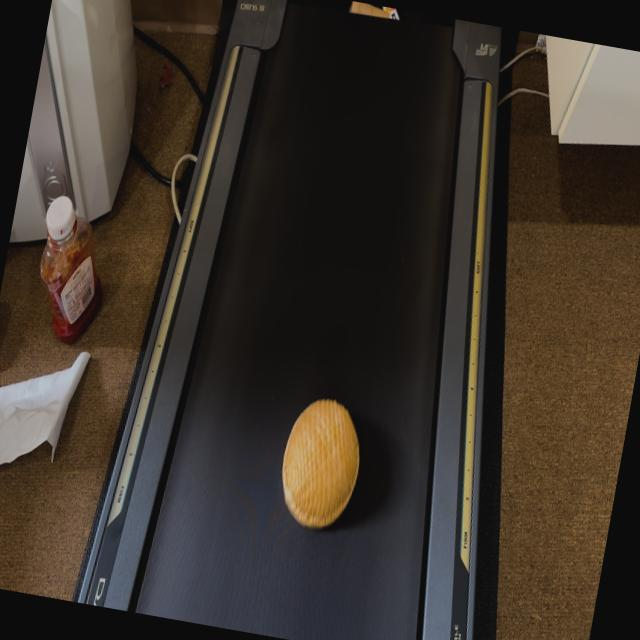Trash: (272, 392, 372, 535)
